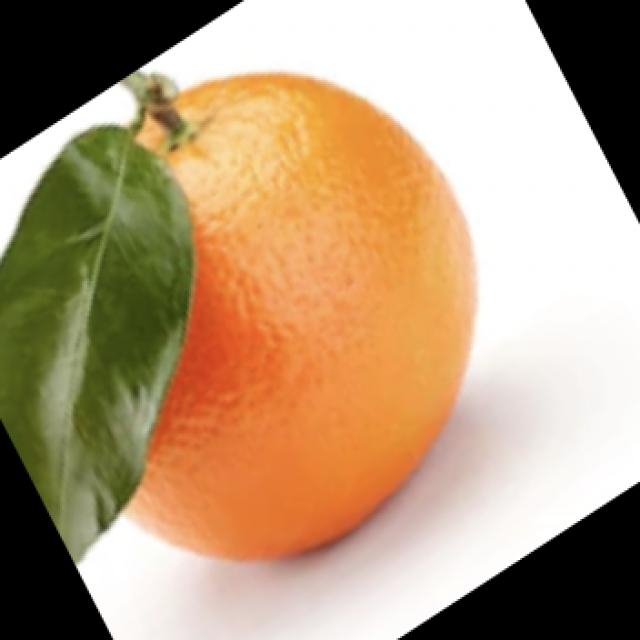fresh: (0, 48, 494, 571)
